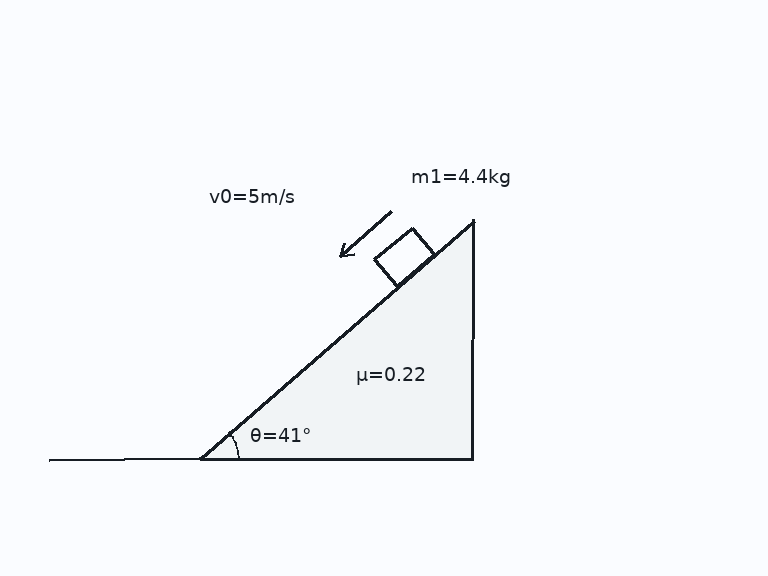block: (372, 225, 436, 288)
ramp: (197, 218, 476, 461)
